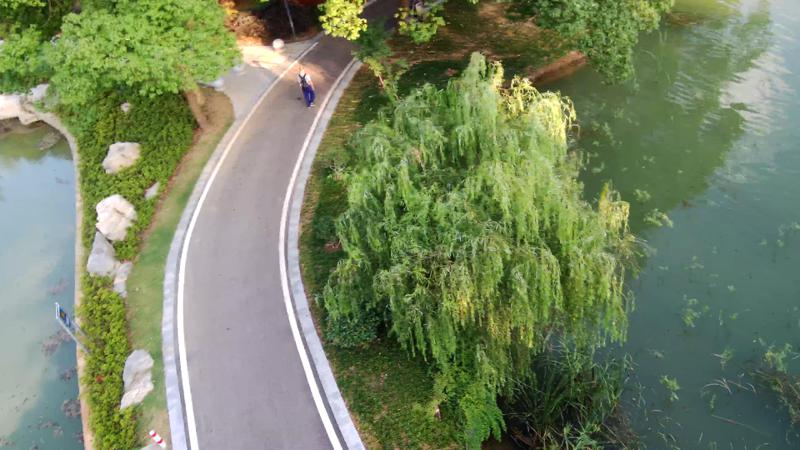passerby: (296, 65, 317, 109)
